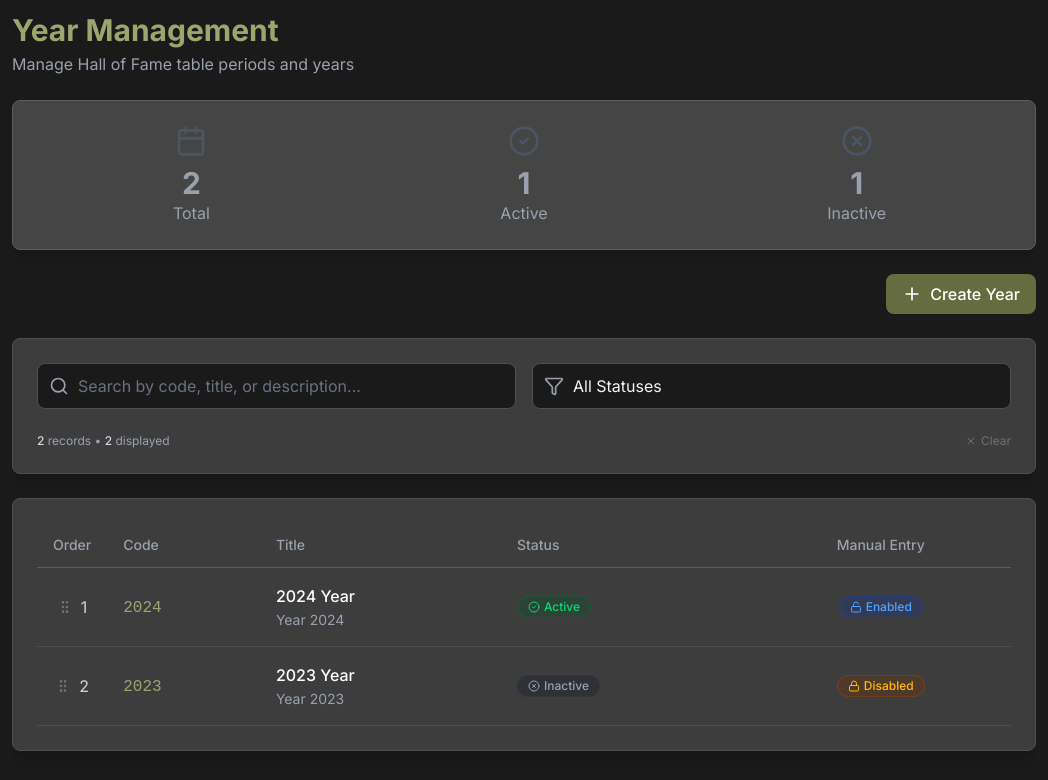
Test case: YearManagement › clears filters when clear button clicked
Expected: the text "2024 Year" is shown, [276,586,355,606]
Type "2024" into the field with placeholder "Search by code, title, or description...".
click(276, 386); type("2024")  # box [37,363,516,409]
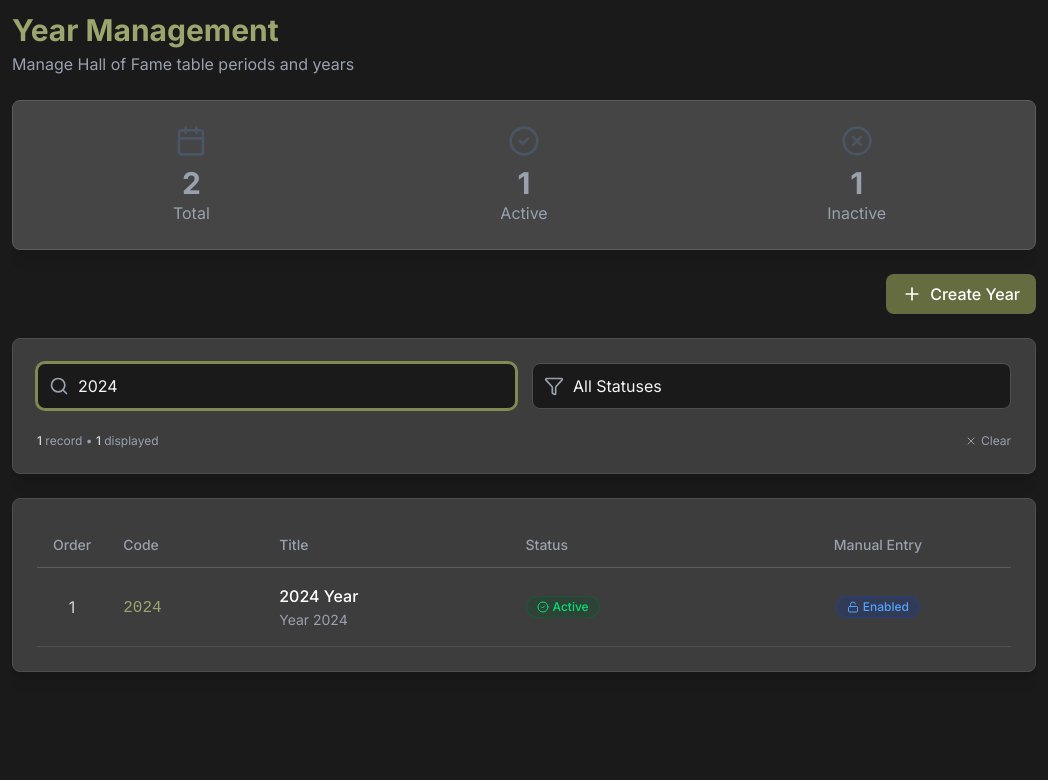
Click the button "Clear".
click(988, 441)  # box [965,433,1011,449]
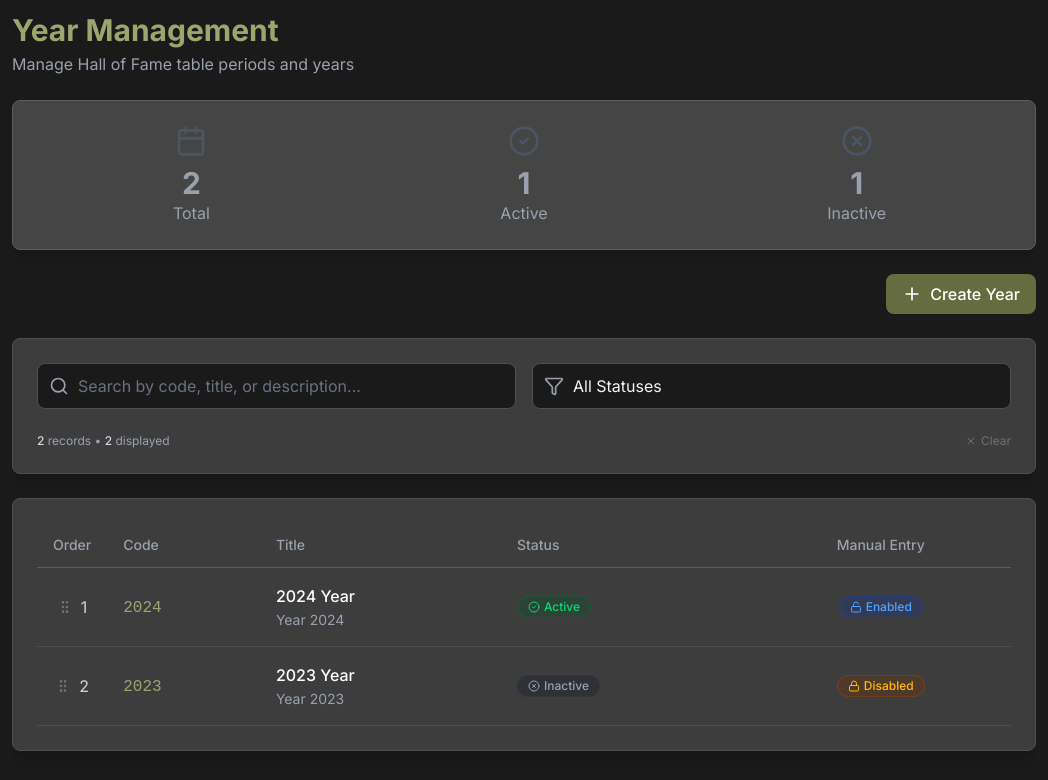
Result: the field with placeholder "Search by code, title, or description..." is empty at [37,363,516,409]
